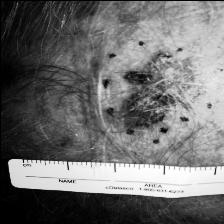Potentially Malignant Skin Tumors: (126, 56, 190, 126)
